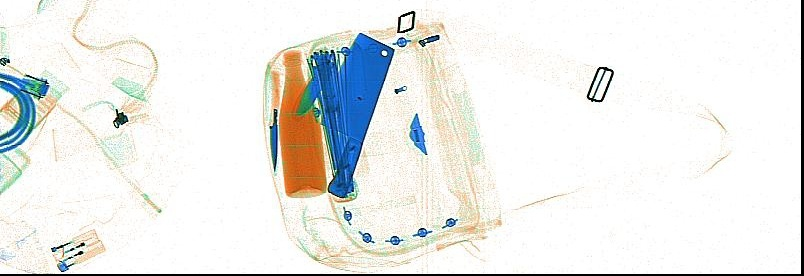knife: (318, 31, 395, 198), (291, 58, 333, 116), (267, 70, 281, 173)
lighter: (57, 239, 107, 270), (51, 228, 99, 256)
